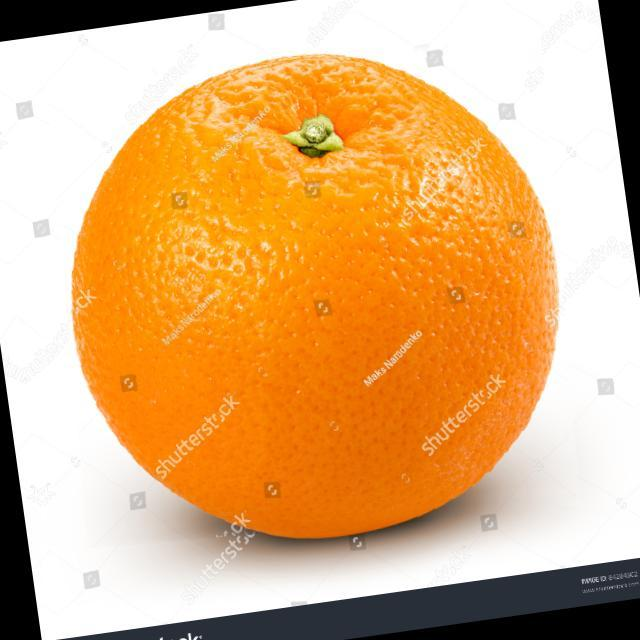Orange: (69, 52, 560, 541)
